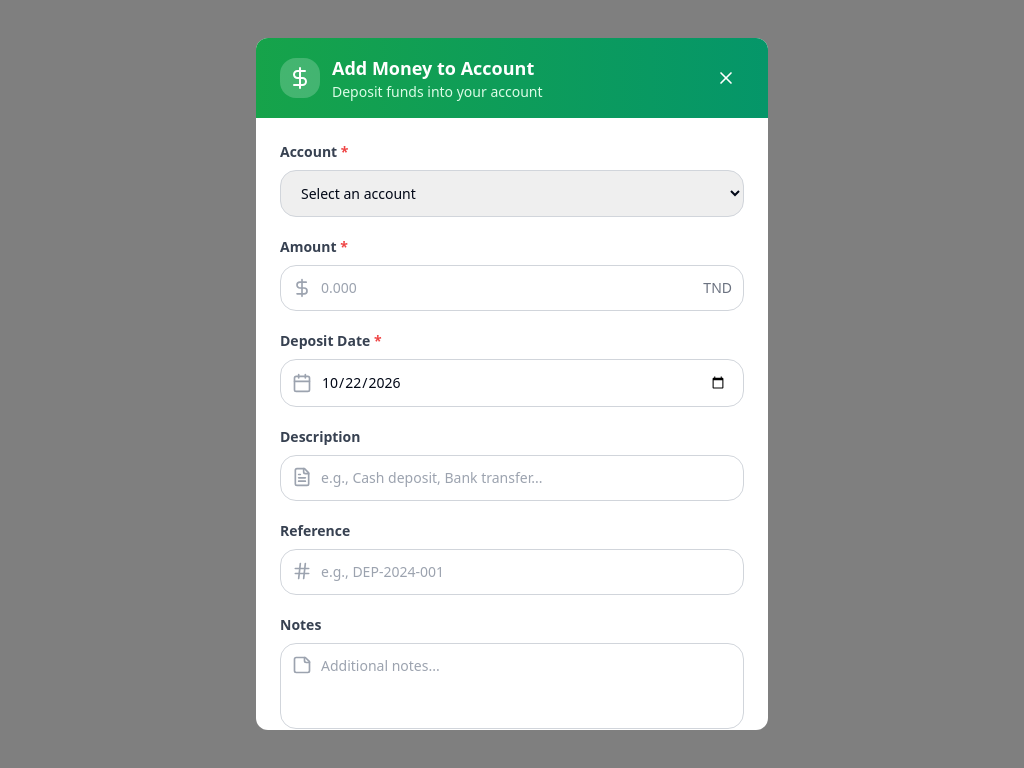
Test: DepositModal › Account Selection › should display current balance when account is selected
Select "Main Bank Account - 10 000,000 TND" in the dropdown. click: (512, 194)
box: [280, 170, 744, 217]
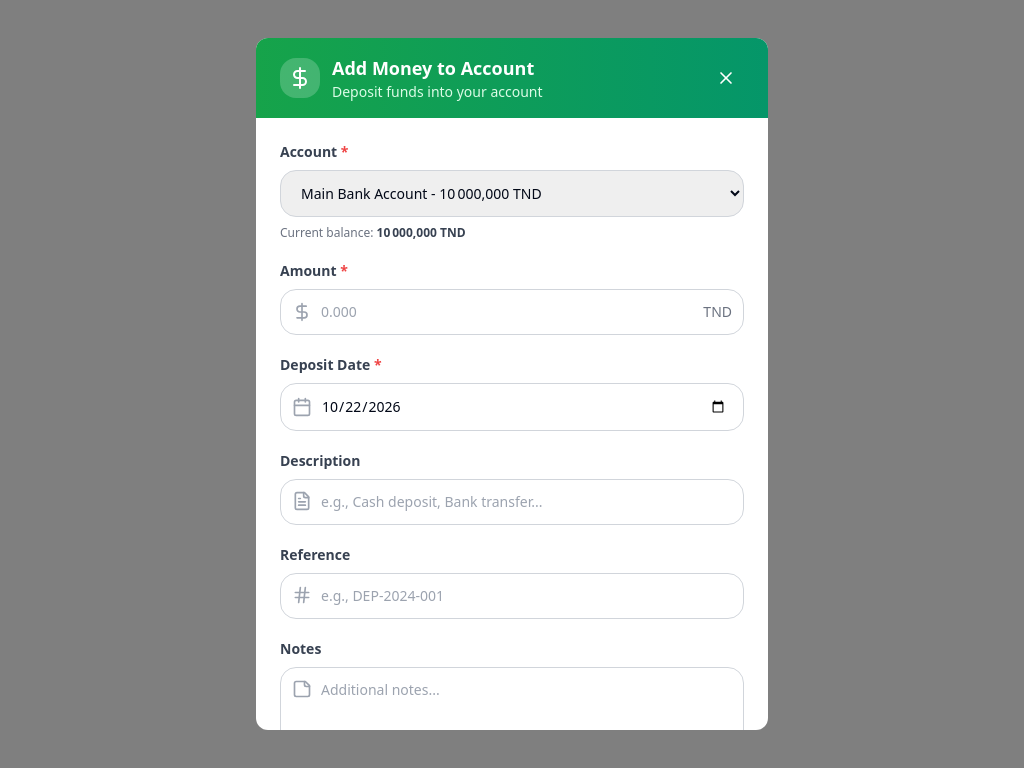
Expected: the text "Current balance: 10 000,000 TND" is shown, [280, 224, 466, 241]
